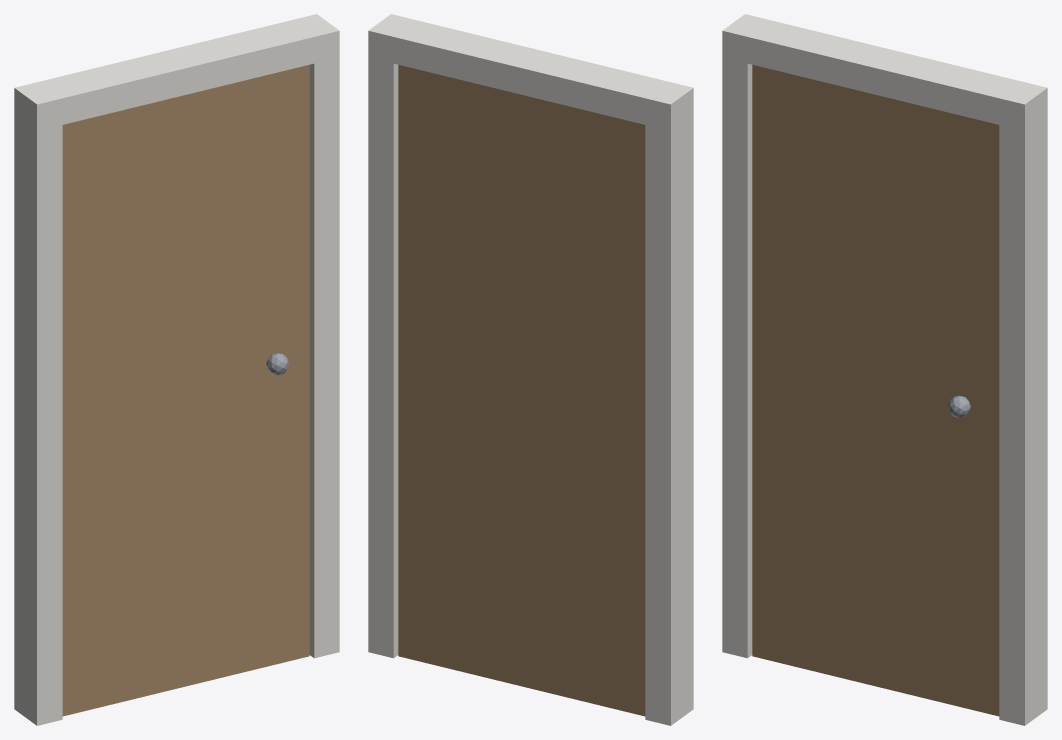
3 renders of one model, left to right at view 1: azimuth 30°, elevation 25°; view 2: azimuth 150°, elevation 25°; view 3: azimuth 330°, elevation 25°, orthographic.
Visible parts, largest first — view 1: Slab, Frame.L, Frame.R, Frame.Top; view 2: Slab, Frame.L, Frame.R, Frame.Top; view 3: Slab, Frame.R, Frame.L, Frame.Top.
Boxes of the visible parts, x1=… form: Slab: x1=62, y1=64, x2=309, y2=716; Frame.L: x1=14, y1=81, x2=62, y2=725; Frame.R: x1=292, y1=14, x2=339, y2=658; Frame.Top: x1=22, y1=18, x2=338, y2=130; Slab: x1=398, y1=64, x2=645, y2=716; Frame.L: x1=645, y1=82, x2=693, y2=725; Frame.R: x1=368, y1=14, x2=416, y2=658; Frame.Top: x1=369, y1=15, x2=690, y2=129; Slab: x1=752, y1=64, x2=999, y2=716; Frame.R: x1=999, y1=81, x2=1047, y2=725; Frame.L: x1=722, y1=14, x2=770, y2=658; Frame.Top: x1=723, y1=16, x2=1036, y2=126.
Size of the model in its own units: 1.07 by 2.1 by 0.185.
